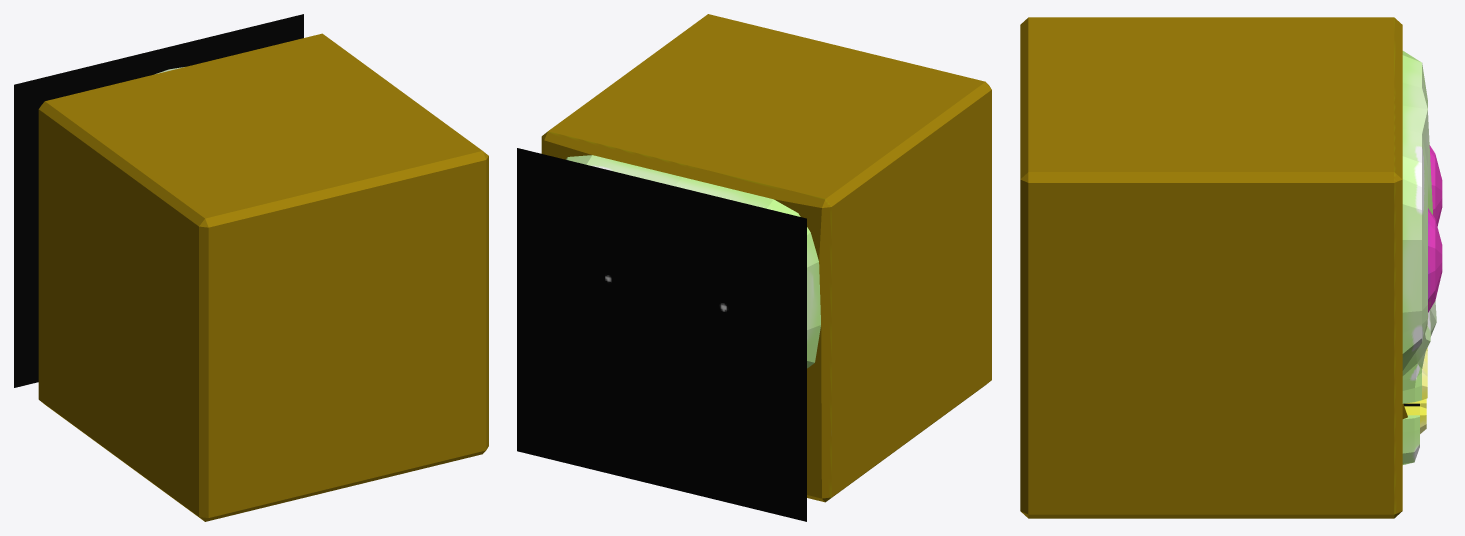
The model's file is Block Assets Skeleton.fbx.
3 renders of one model, left to right at view 1: azimuth 30°, elevation 25°; view 2: azimuth 150°, elevation 25°; view 3: azimuth 270°, elevation 25°, orthographic. The views are drawn at different scales.
Visible parts, largest first — view 1: Block Skeleton, Skeleton Plane; view 2: Block Skeleton, Skeleton Plane; view 3: Block Skeleton.
Boxes of the visible parts, <box> form: Block Skeleton: <box>38,33,488,521</box>; Skeleton Plane: <box>14,14,303,387</box>; Block Skeleton: <box>541,14,991,502</box>; Skeleton Plane: <box>517,148,806,521</box>; Block Skeleton: <box>1020,17,1442,518</box>.
Bounding box in the file's own units: 1 × 1 × 1.13.
